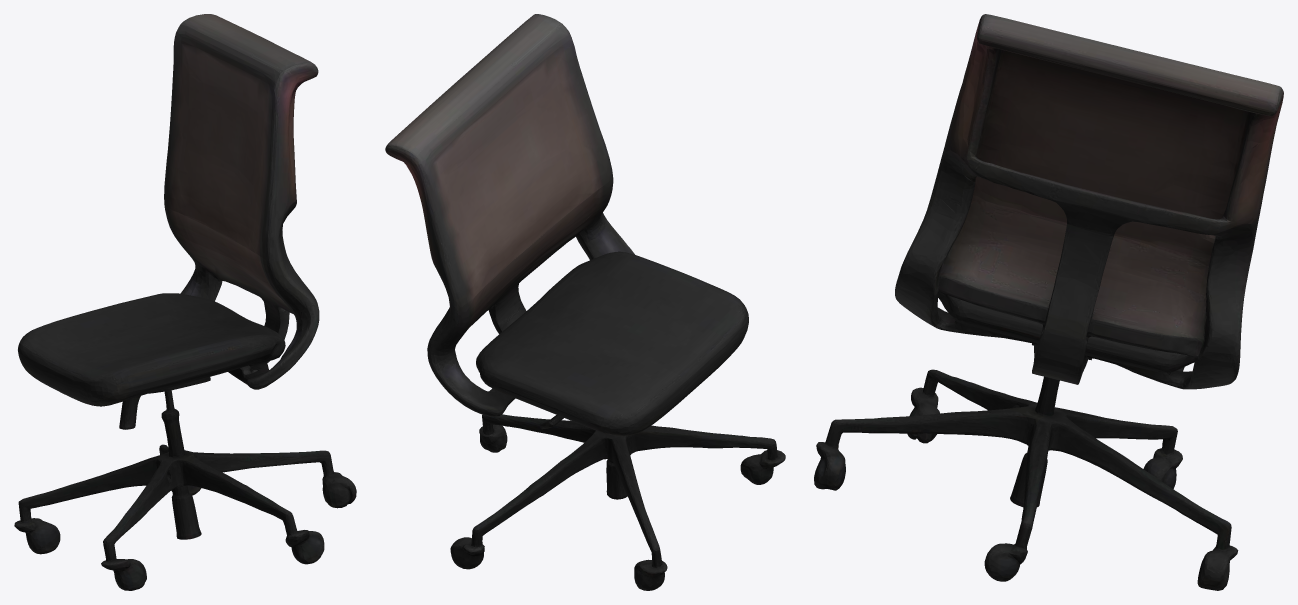
The model's file is black_mesh_office_chair_in_left_foreground_000.glb.
The picture shows the model from 3 angles, left to right: view 1: azimuth 30°, elevation 25°; view 2: azimuth 150°, elevation 25°; view 3: azimuth 270°, elevation 25°; orthographic projection. The views are drawn at different scales.
Parts seen in each view (by area): view 1: black_mesh_office_chair_in_left_foreground_000.obj; view 2: black_mesh_office_chair_in_left_foreground_000.obj; view 3: black_mesh_office_chair_in_left_foreground_000.obj.
Part boxes in pixels (<box>): black_mesh_office_chair_in_left_foreground_000.obj: <box>14,14,356,590</box>; black_mesh_office_chair_in_left_foreground_000.obj: <box>385,14,785,590</box>; black_mesh_office_chair_in_left_foreground_000.obj: <box>814,14,1283,590</box>.
Bounding box in the file's own units: 0.3167 × 0.5321 × 0.3907.
1 material, 1 textured.
